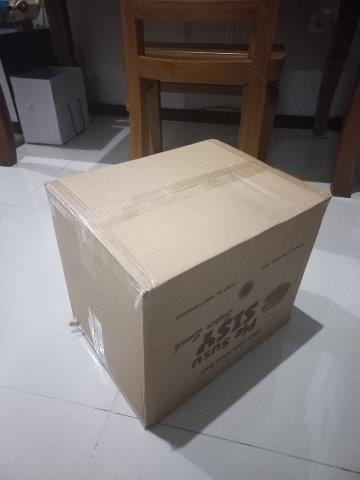kardus: (46, 138, 331, 429)
